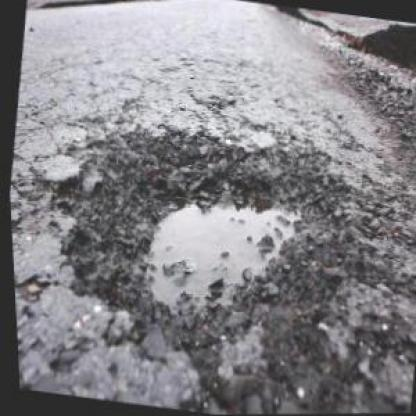pothole: (38, 107, 367, 363)
